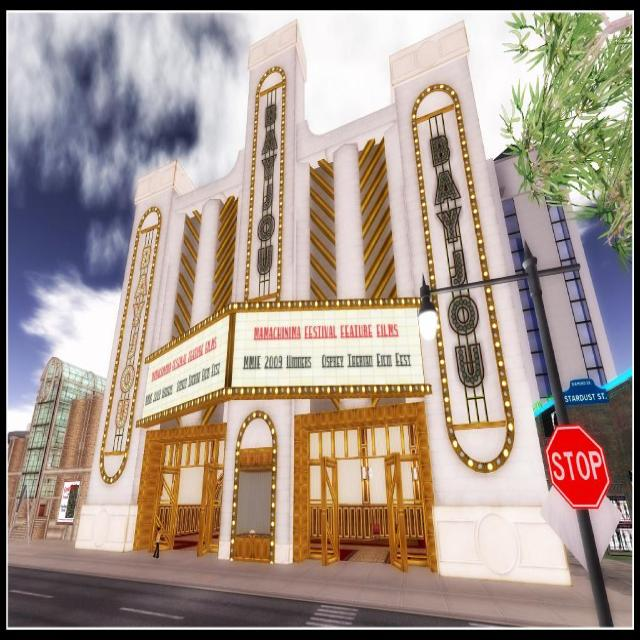Stop-sign: (543, 421, 612, 511)
